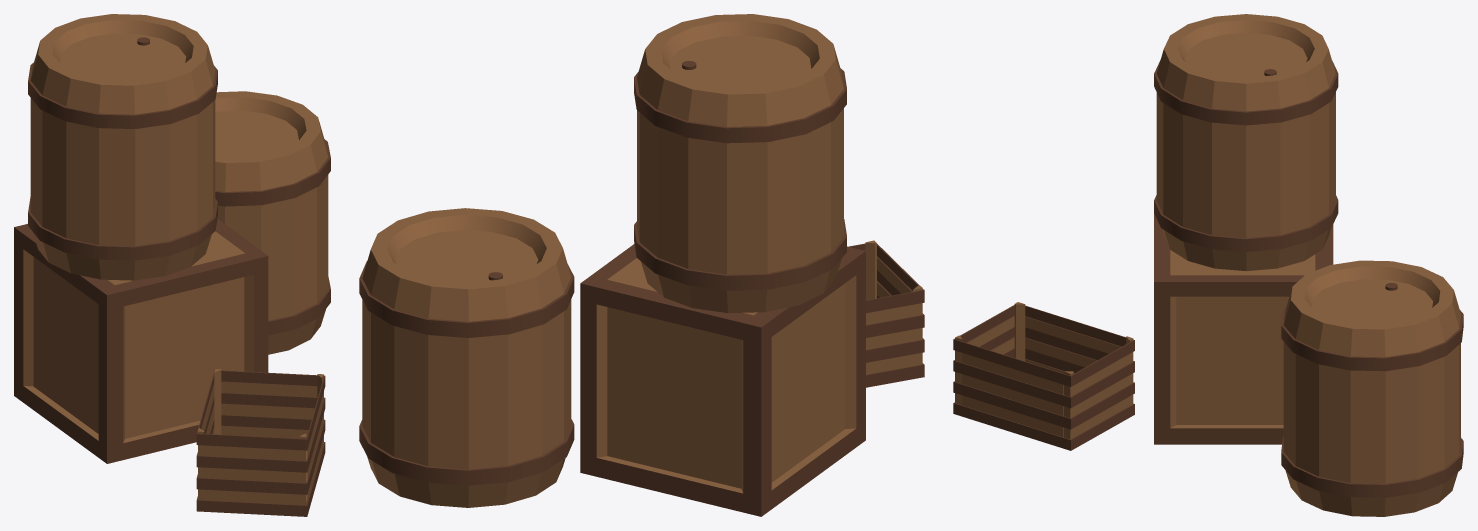
File: props_v1.fbx
3 renders of one model, left to right at view 1: azimuth 30°, elevation 25°; view 2: azimuth 150°, elevation 25°; view 3: azimuth 270°, elevation 25°, orthographic. The views are drawn at different scales.
Visible parts, largest first — view 1: pile v1; view 2: pile v1; view 3: pile v1.
Part boxes in pixels (x1,y1,x2,y2): pile v1: (14,14,330,516); pile v1: (359,14,924,516); pile v1: (953,14,1463,516).
Bounding box in the file's own units: 169 × 171 × 226.
1 material, 1 textured.
